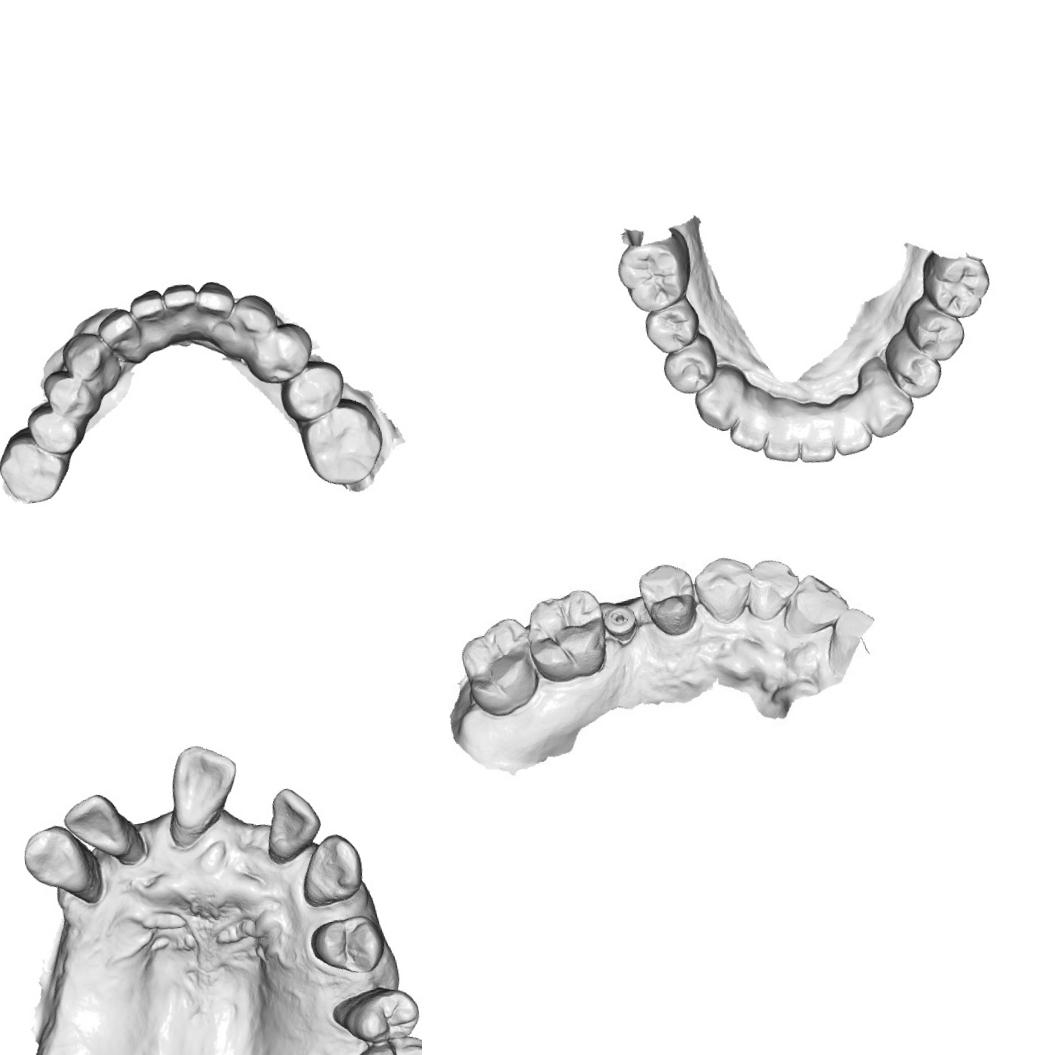canine: (18, 821, 100, 908), (686, 546, 757, 634), (294, 829, 368, 911), (854, 350, 917, 440), (689, 361, 752, 434), (61, 332, 114, 390), (225, 290, 278, 348)
implant_minus: (602, 602, 644, 644)
incisor: (161, 738, 246, 831), (777, 568, 856, 644), (59, 789, 131, 862), (259, 782, 325, 858), (741, 552, 803, 624), (722, 380, 775, 456), (755, 391, 802, 466), (791, 399, 838, 465), (828, 393, 874, 458), (192, 278, 238, 328), (97, 308, 139, 355), (158, 280, 200, 327), (126, 288, 170, 331)
molar: (521, 578, 610, 690), (456, 613, 547, 722), (299, 402, 387, 492), (612, 223, 697, 316), (918, 240, 994, 324), (0, 425, 68, 506)
premolar: (306, 908, 390, 981), (634, 558, 703, 641), (338, 983, 422, 1049), (900, 289, 968, 366), (880, 323, 946, 402), (277, 358, 348, 424), (248, 318, 315, 386), (658, 331, 722, 398), (640, 298, 704, 357), (24, 398, 84, 460), (41, 368, 100, 425)
